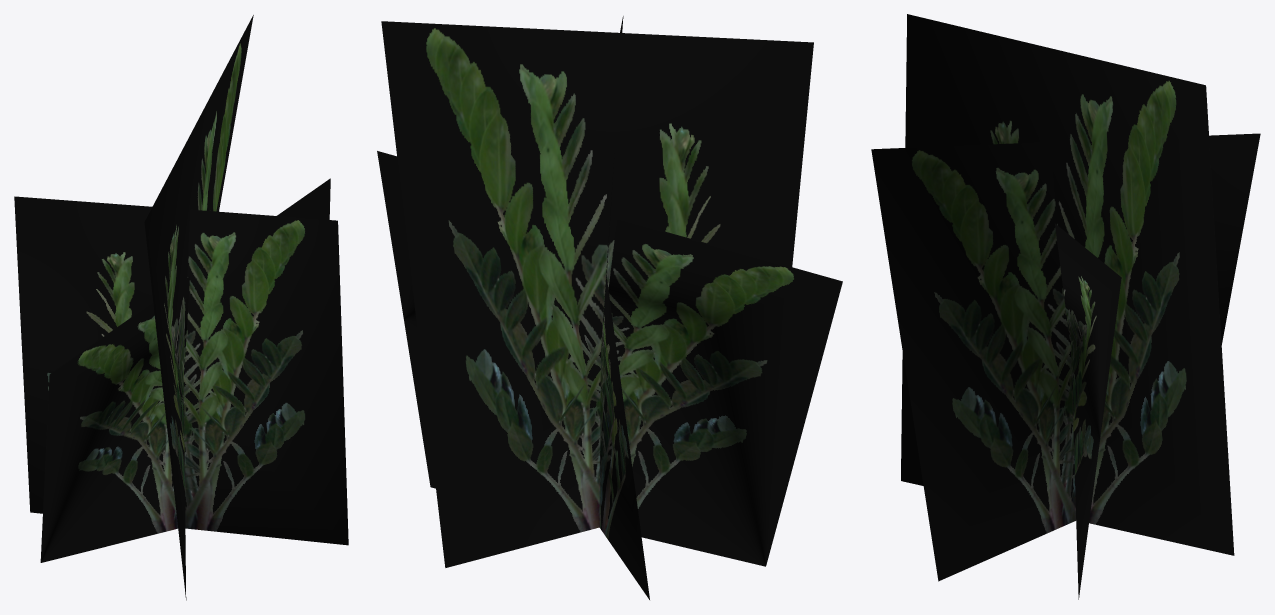
Rendered from obj__tropw1.obj.
The picture shows the model from 3 angles, left to right: view 1: azimuth 30°, elevation 25°; view 2: azimuth 150°, elevation 25°; view 3: azimuth 270°, elevation 25°; orthographic projection. The views are drawn at different scales.
Visible parts, largest first — view 1: tropw1.tga; view 2: tropw1.tga; view 3: tropw1.tga.
Boxes of the visible parts, left/top/right/bottom form: tropw1.tga: left=14, top=15, right=348, bottom=600; tropw1.tga: left=377, top=16, right=842, bottom=599; tropw1.tga: left=871, top=14, right=1260, bottom=599.
Size of the model in its own units: 53.82 by 66.87 by 46.44.
Materials: 1 (1 with a texture image).
